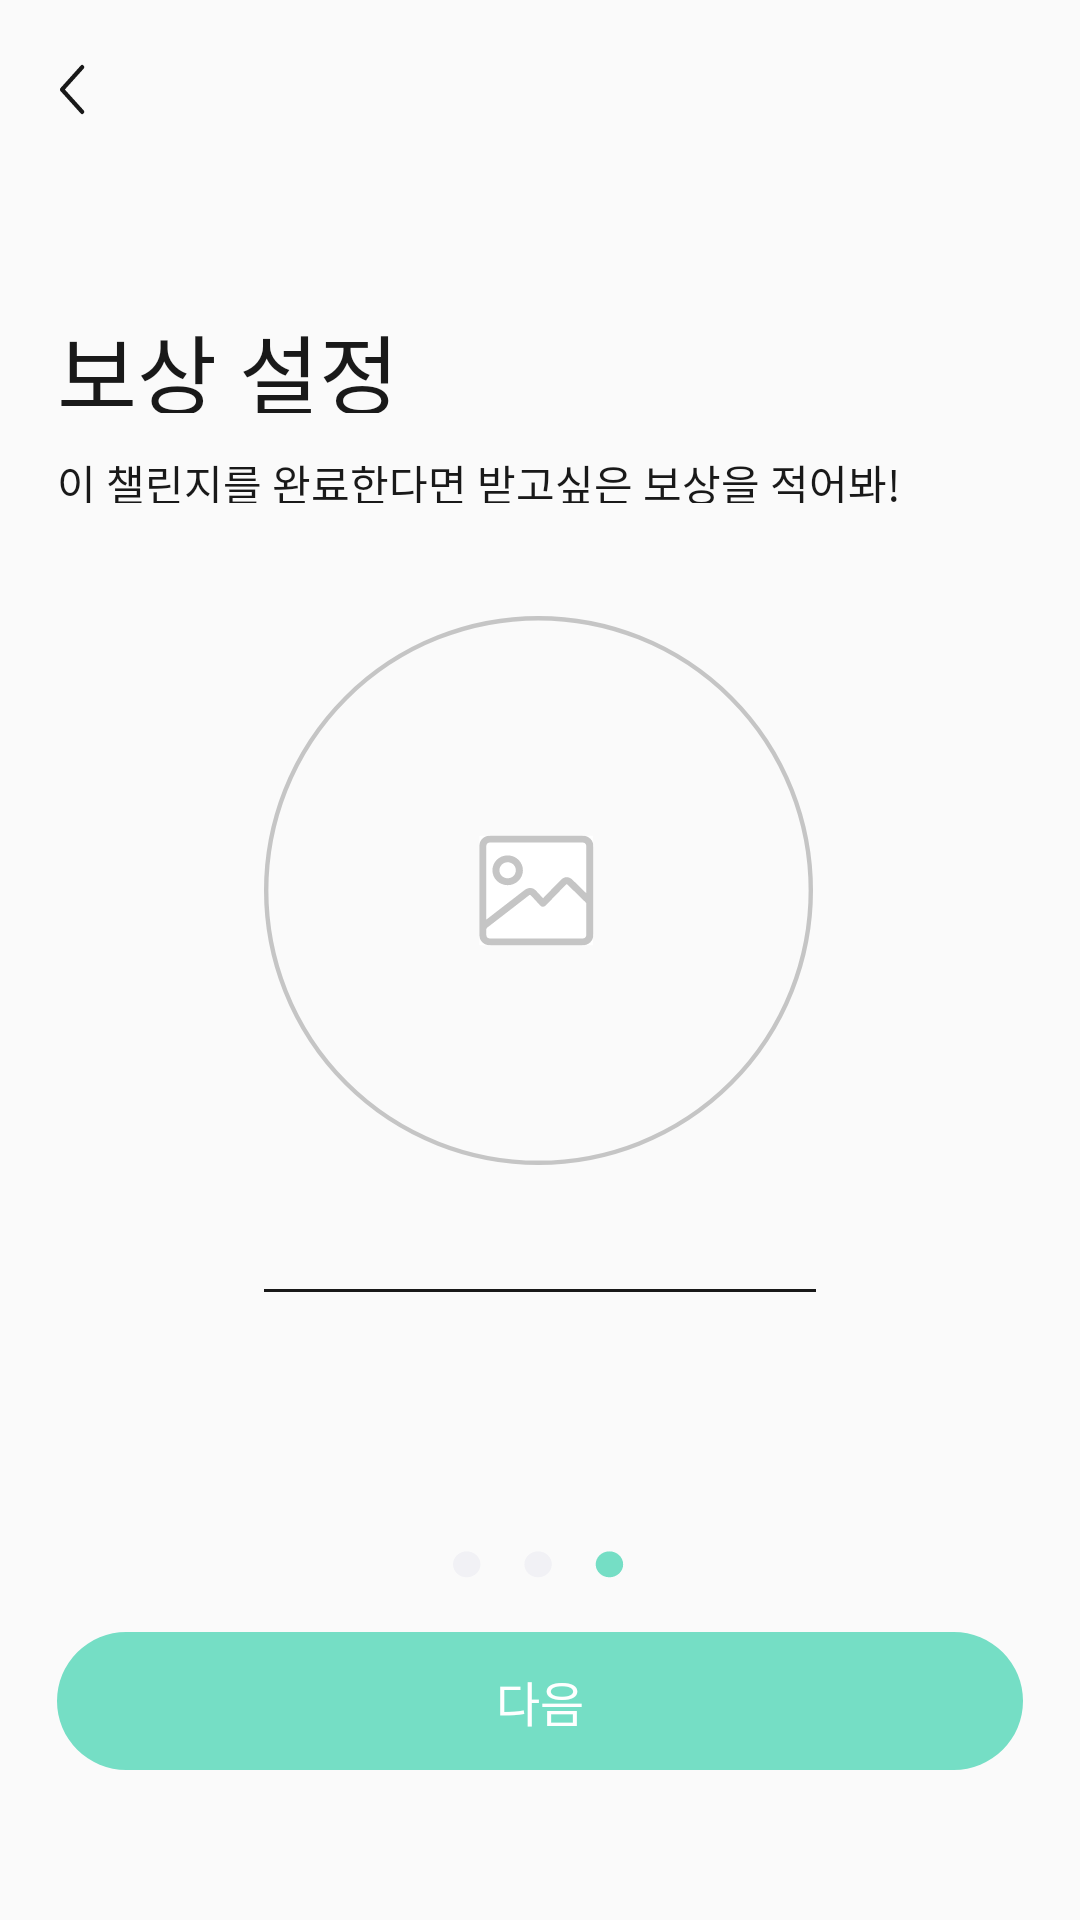

Where icons sit on this 1080px×1920px app screen, as (x1, y1, x2, y2):
back: (60, 64, 85, 115)
